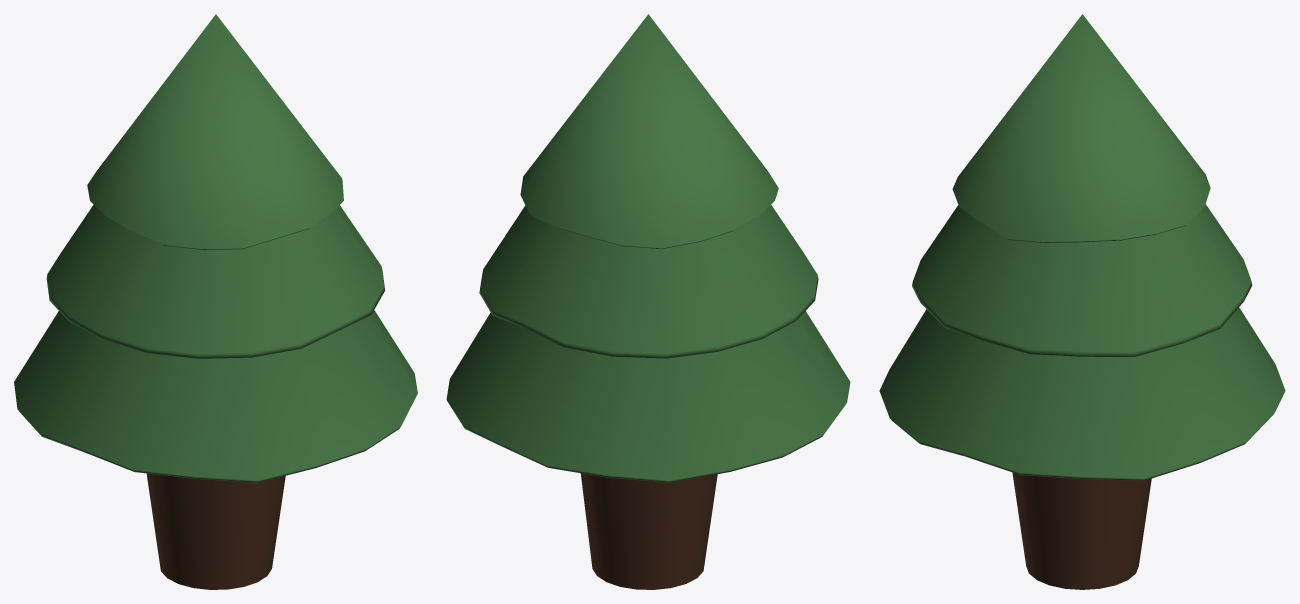
Rendered from Prop_Tree_2.fbx.
The picture shows the model from 3 angles, left to right: view 1: azimuth 30°, elevation 25°; view 2: azimuth 150°, elevation 25°; view 3: azimuth 270°, elevation 25°; orthographic projection.
Parts seen in each view (by area): view 1: pCone1; view 2: pCone1; view 3: pCone1.
Boxes of the visible parts, <box> form: pCone1: <box>14,14,417,589</box>; pCone1: <box>446,14,850,589</box>; pCone1: <box>879,14,1285,589</box>.
Bounding box in the file's own units: 3.99 × 5.98 × 3.99.
